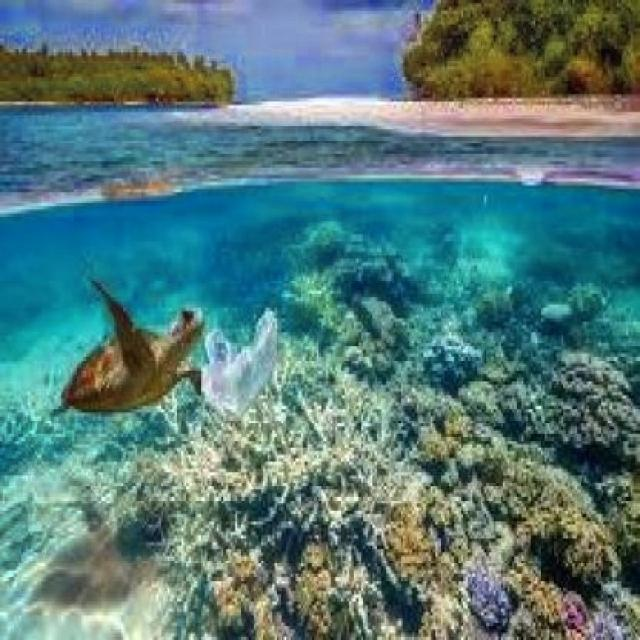pbag: (196, 297, 282, 423)
